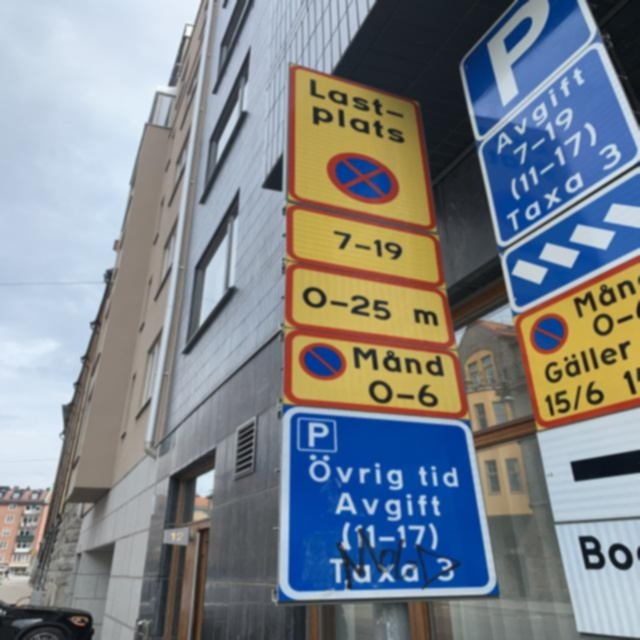lastplats: (284, 57, 443, 236)
